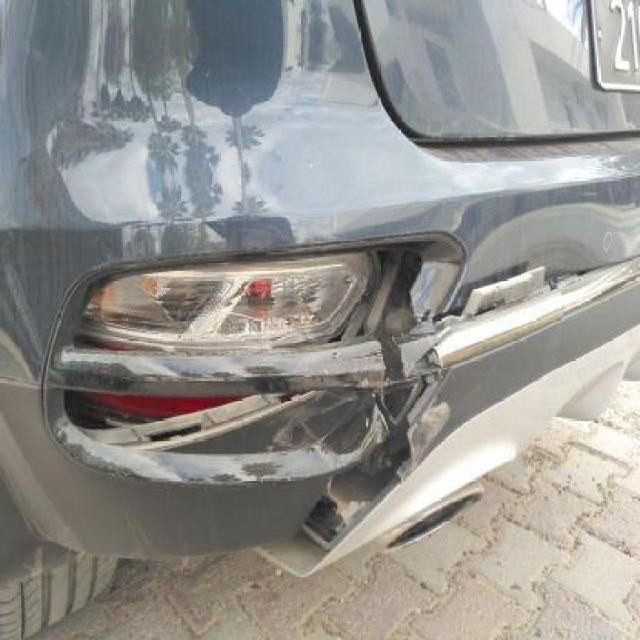car damage: (42, 70, 254, 228), (468, 192, 640, 345), (118, 194, 300, 268), (182, 0, 288, 127), (0, 253, 47, 390)
